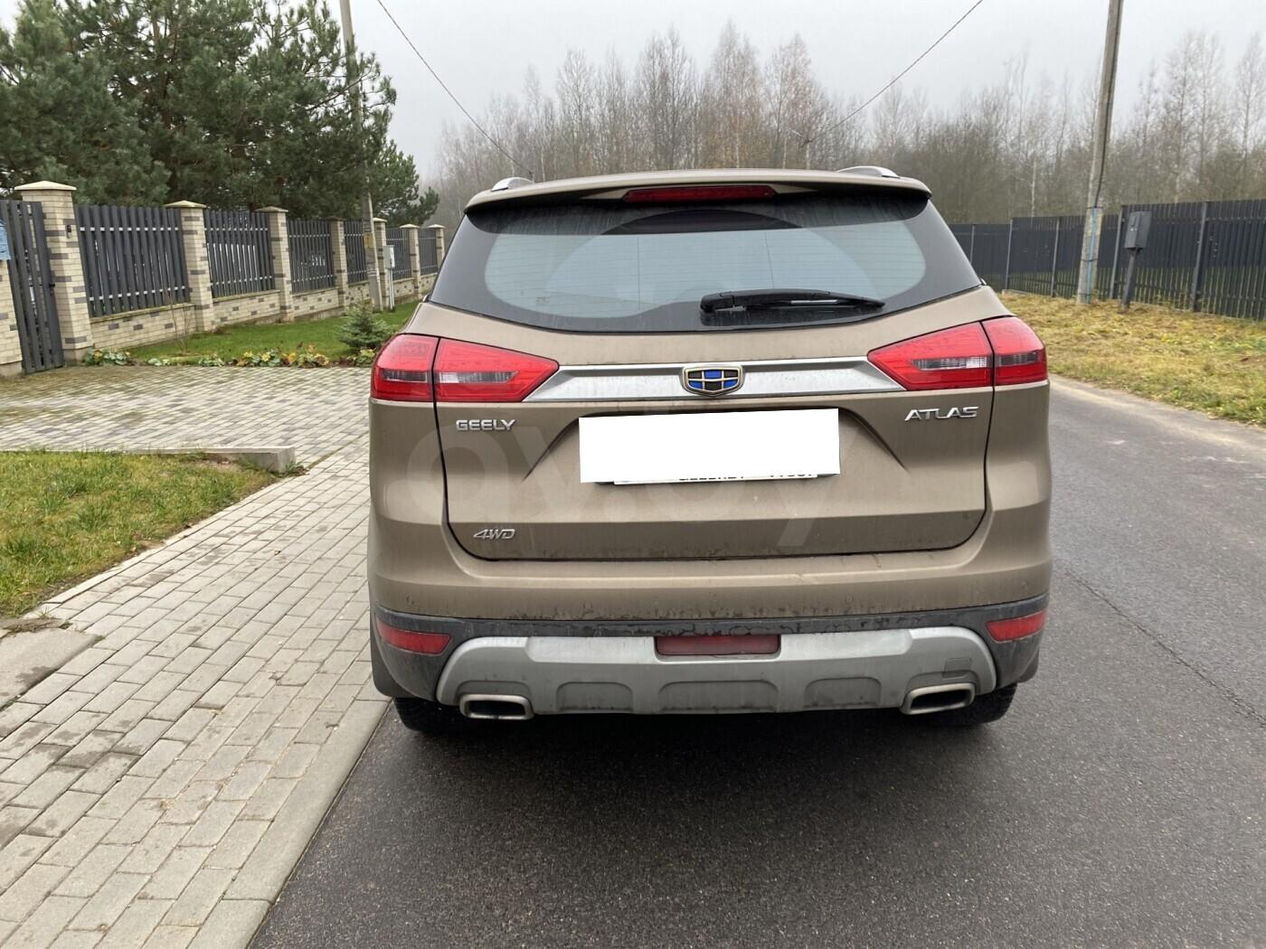Atlas_2016-2023: (359, 167, 1068, 745)
